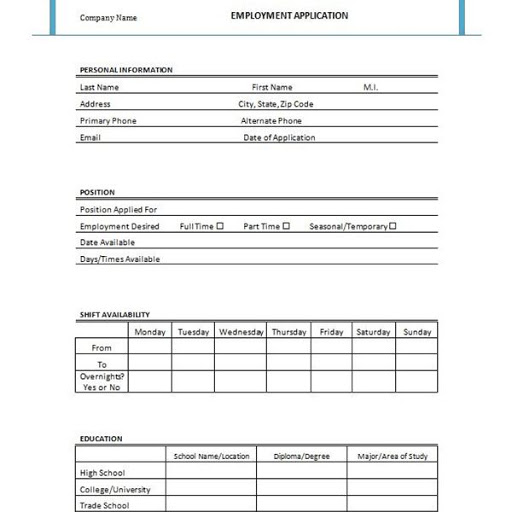table: (74, 183, 438, 263), (75, 62, 437, 142), (76, 444, 436, 512), (74, 337, 437, 394)
